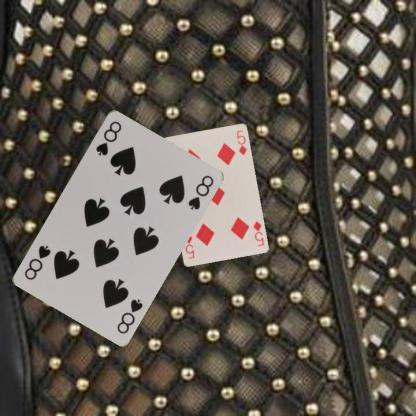5d: (250, 218, 265, 247)
8s: (114, 296, 144, 336), (93, 118, 123, 156)
